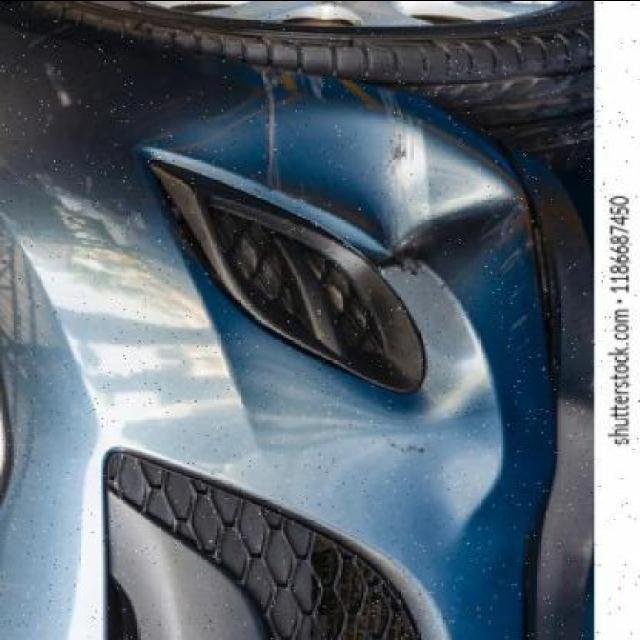front-bumper-dent: (85, 50, 545, 628)
